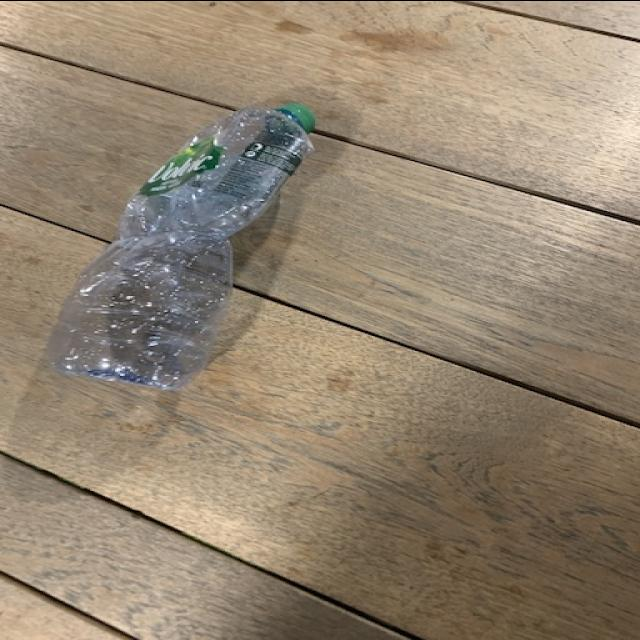litter: (43, 96, 320, 388)
